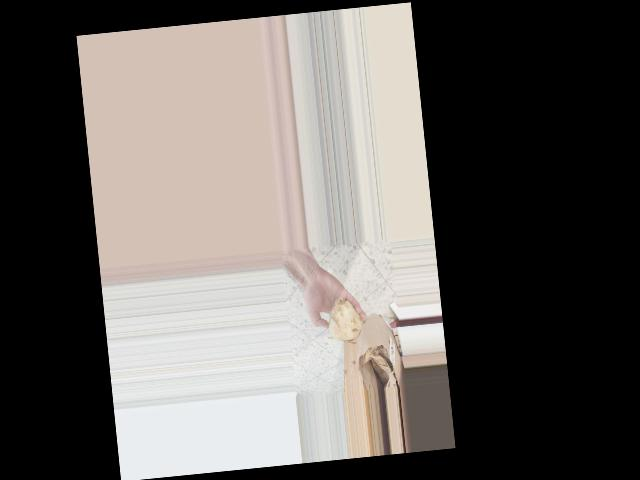onion: (325, 297, 367, 346)
